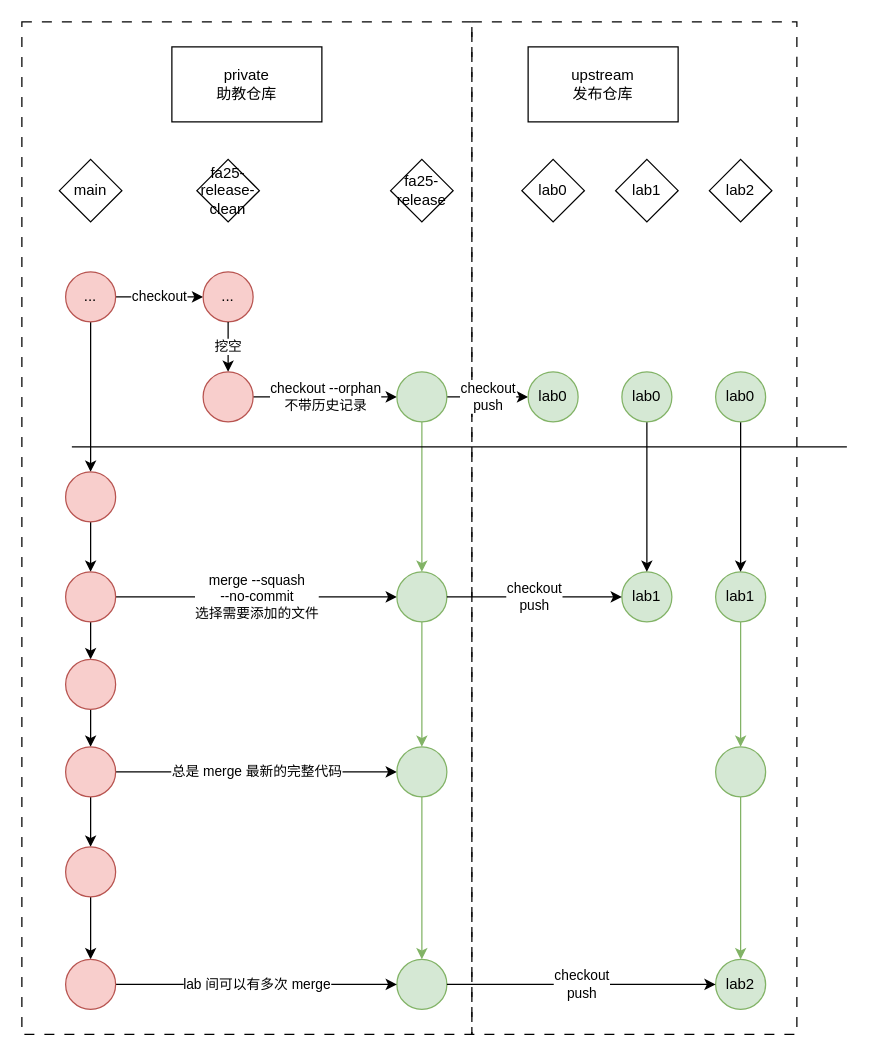
This 870x1056 diagram has some shape labels left out. The centre of each missing label's shape, as x and y in pixels:
lab0 进度: pixel 421 396
lab1 进度: pixel 421 596
lab2 进度: pixel 421 983
